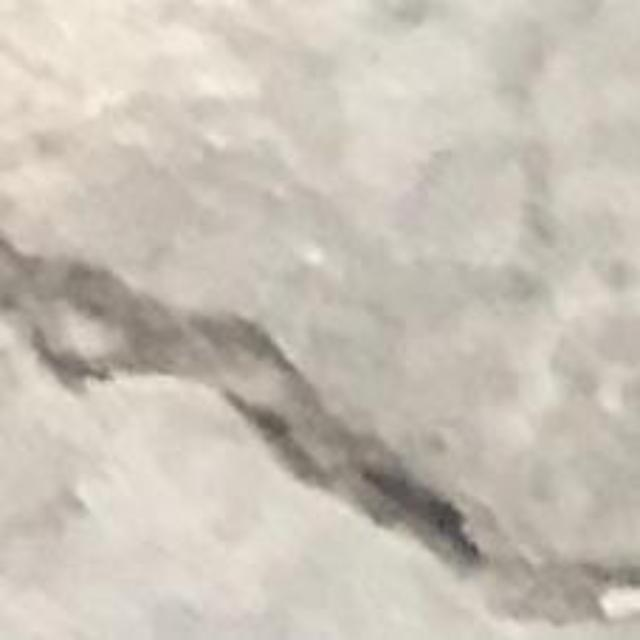crack: (0, 235, 639, 623)
